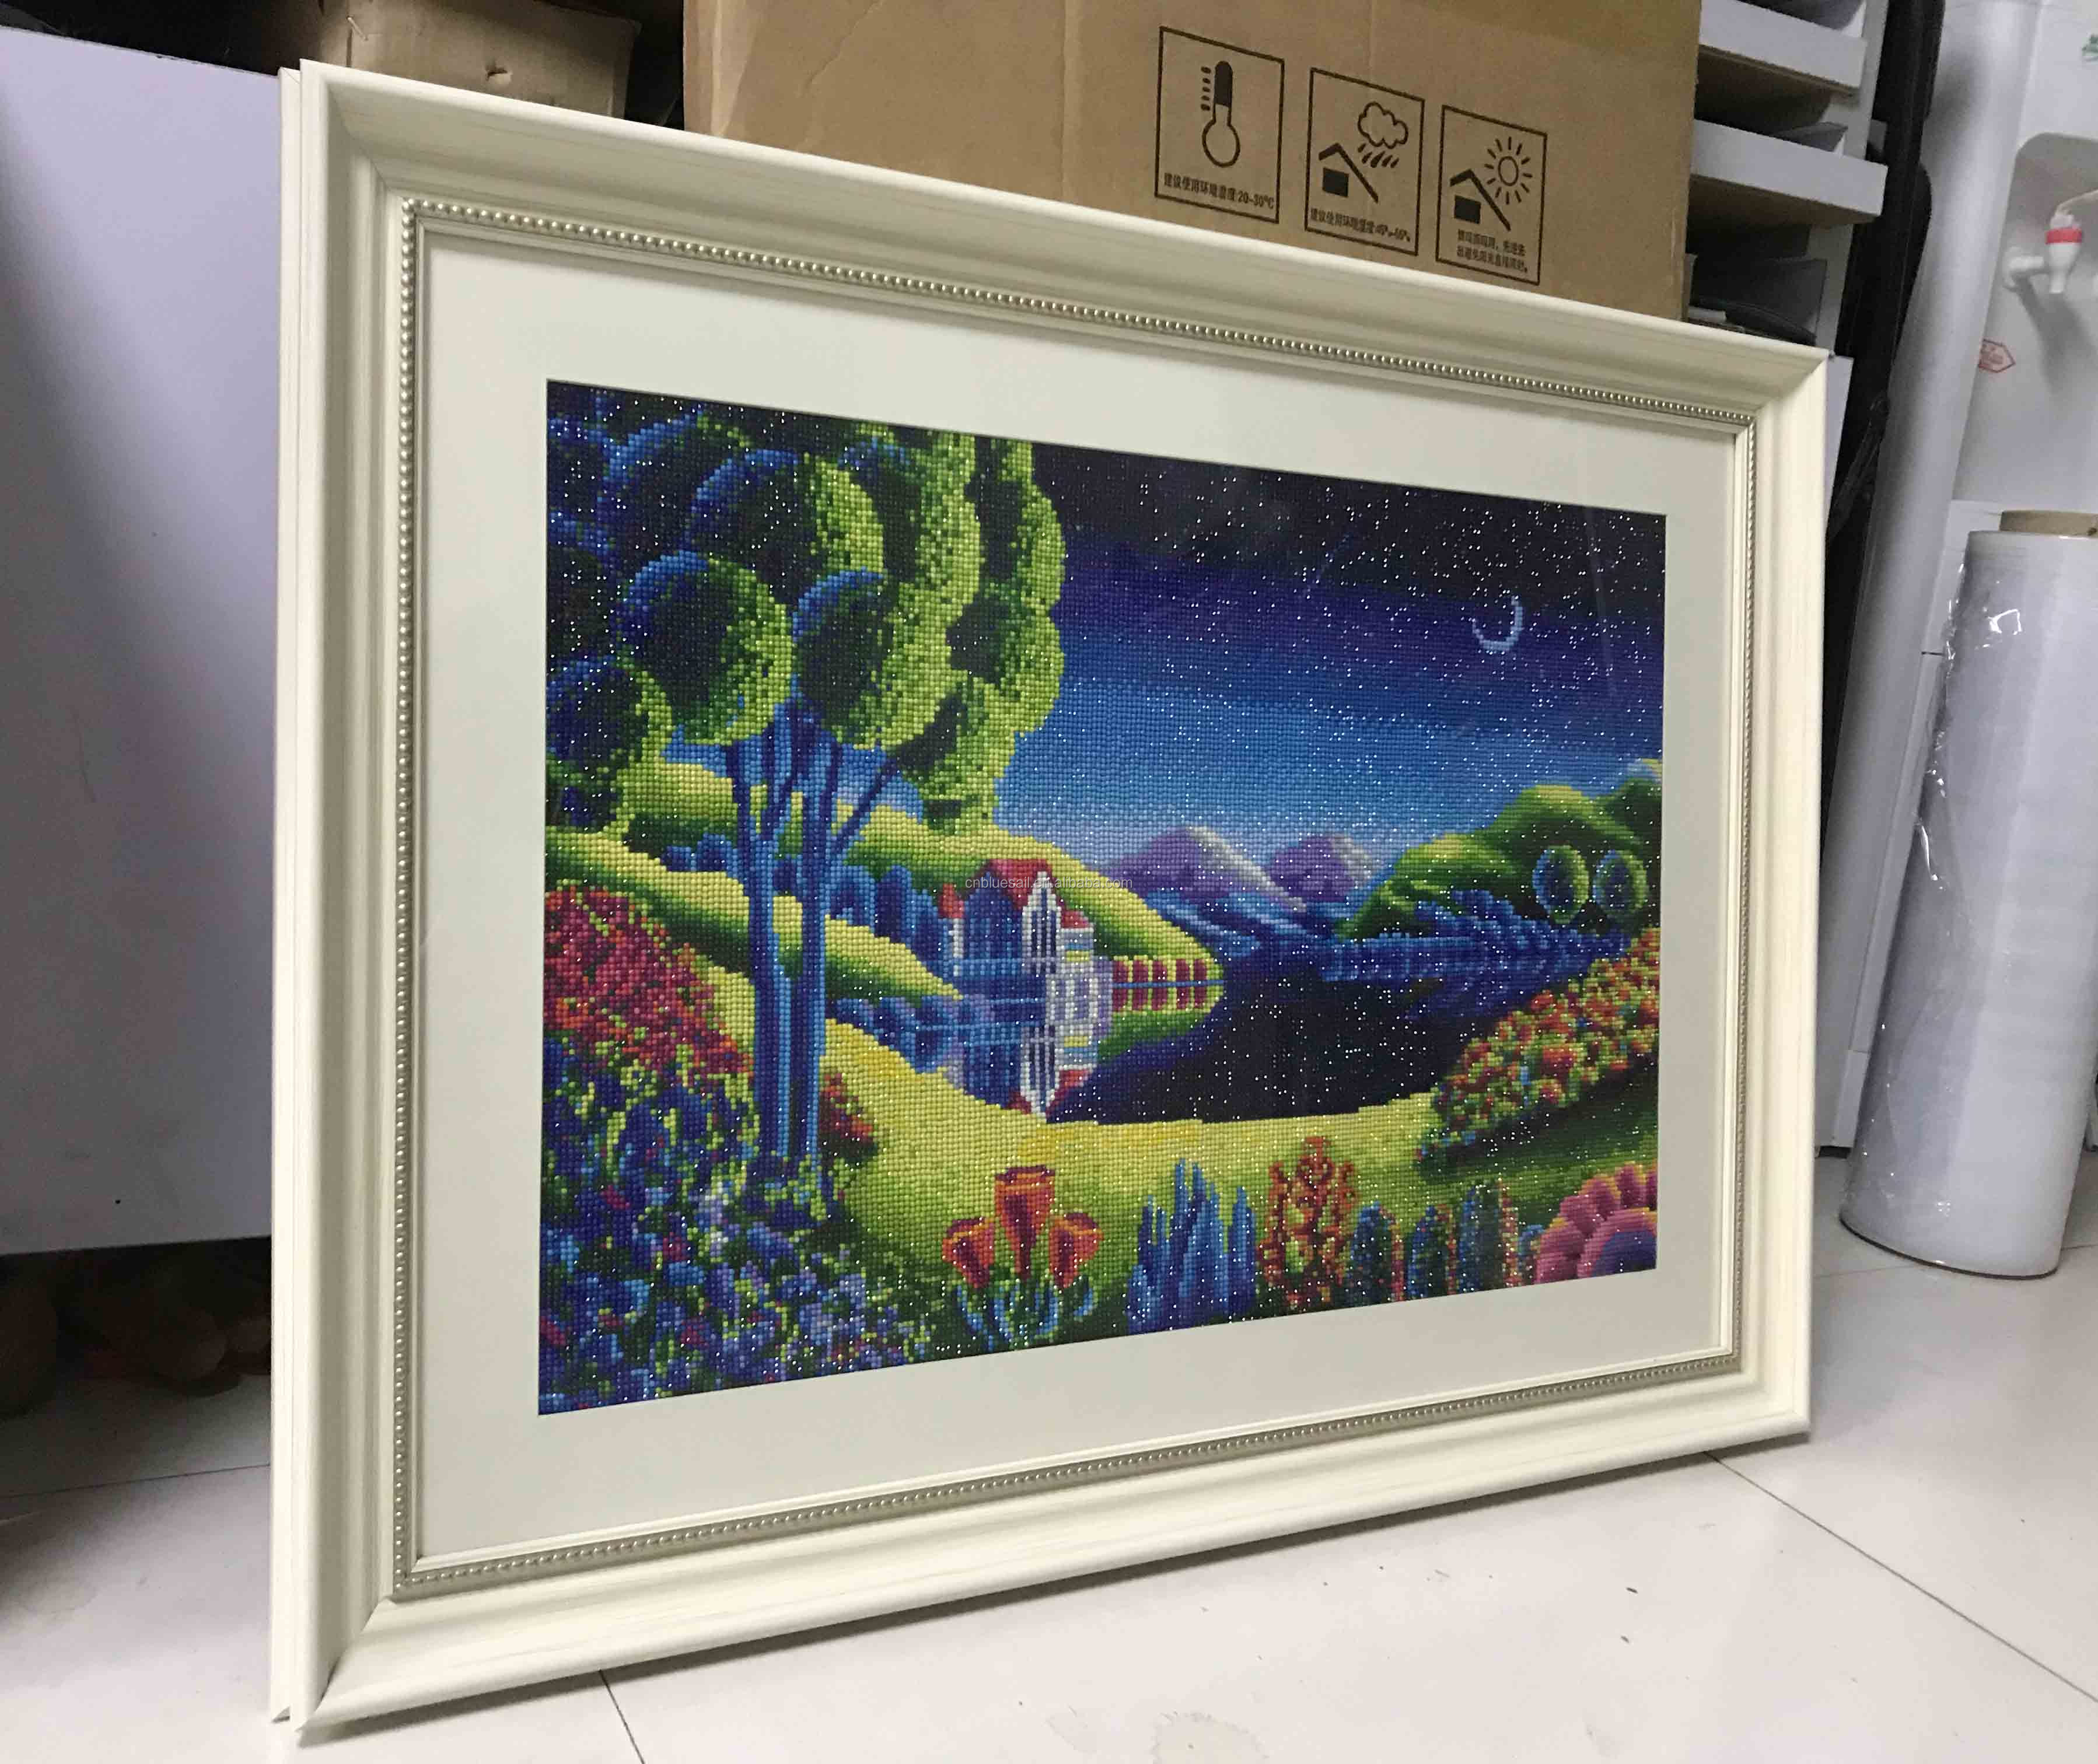lukisan: (241, 100, 1822, 1640)
